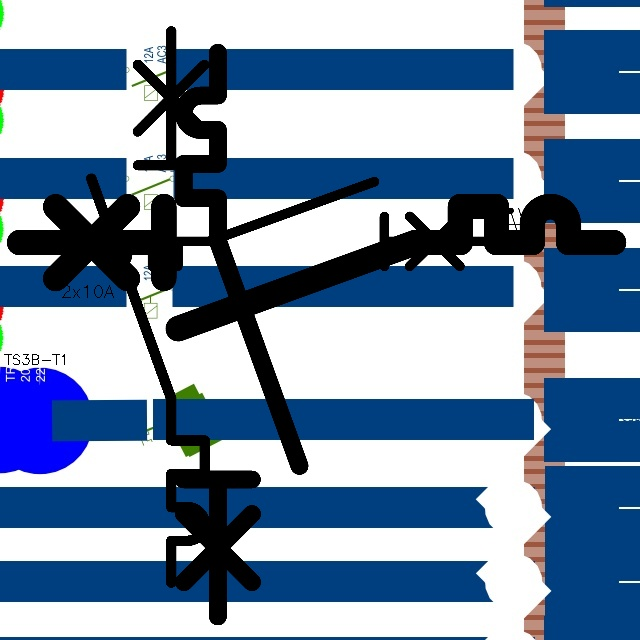interruptor_termomagnetico: (4, 191, 629, 344), (169, 38, 314, 631), (77, 17, 219, 597), (60, 171, 495, 277)
